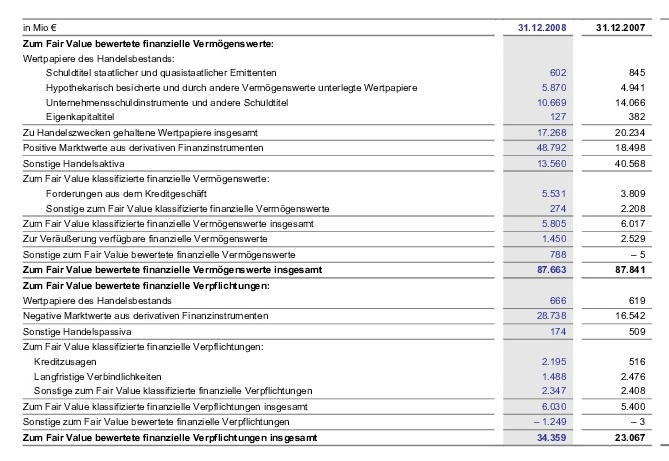table: (0, 0, 669, 461)
